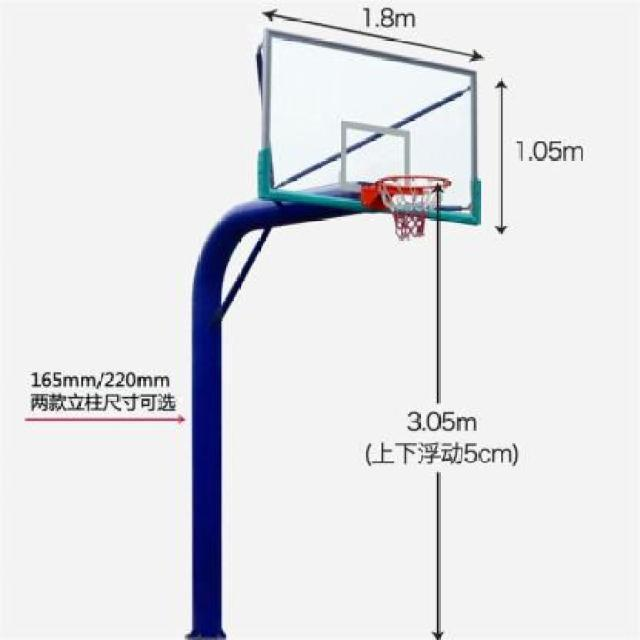rim: (378, 175, 450, 241)
